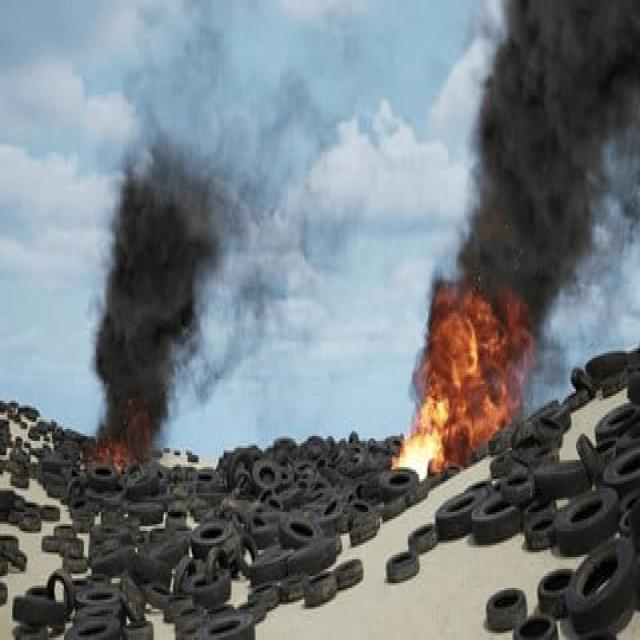fire: (392, 281, 532, 478), (98, 415, 150, 468)
